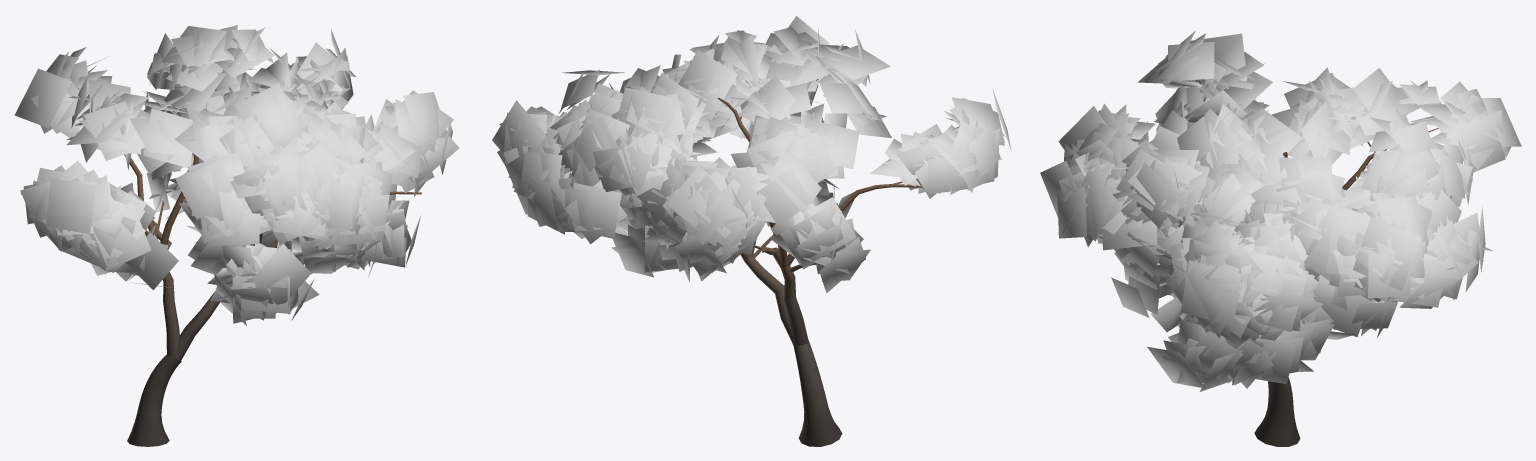
The picture shows the model from 3 angles, left to right: view 1: azimuth 30°, elevation 25°; view 2: azimuth 150°, elevation 25°; view 3: azimuth 270°, elevation 25°; orthographic projection. The views are drawn at different scales.
Parts seen in each view (by area): view 1: crown, trunk; view 2: crown, trunk; view 3: crown, trunk.
Part boxes in pixels (x1=…): crown: x1=14, y1=25, x2=459, y2=325; trunk: x1=124, y1=89, x2=421, y2=446; crown: x1=492, y1=16, x2=1011, y2=293; trunk: x1=718, y1=79, x2=921, y2=446; crown: x1=1040, y1=30, x2=1521, y2=391; trunk: x1=1168, y1=128, x2=1438, y2=446.
Size of the model in its own units: 13.25 by 10.48 by 11.93.
